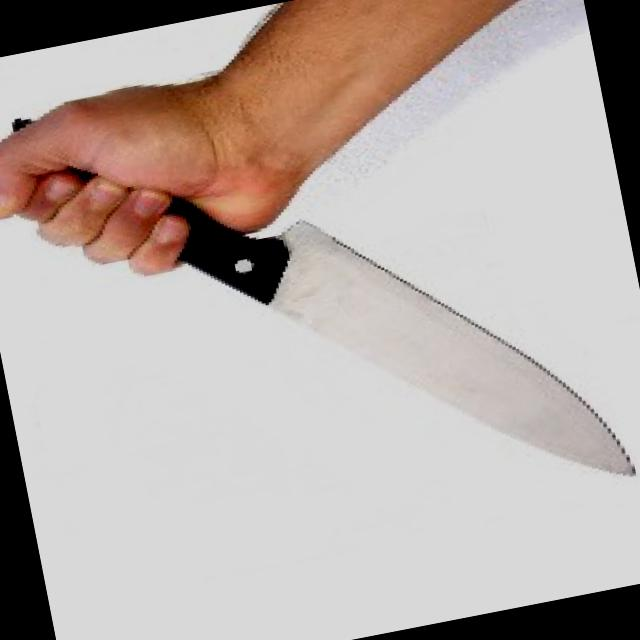knife: (44, 73, 638, 586)
